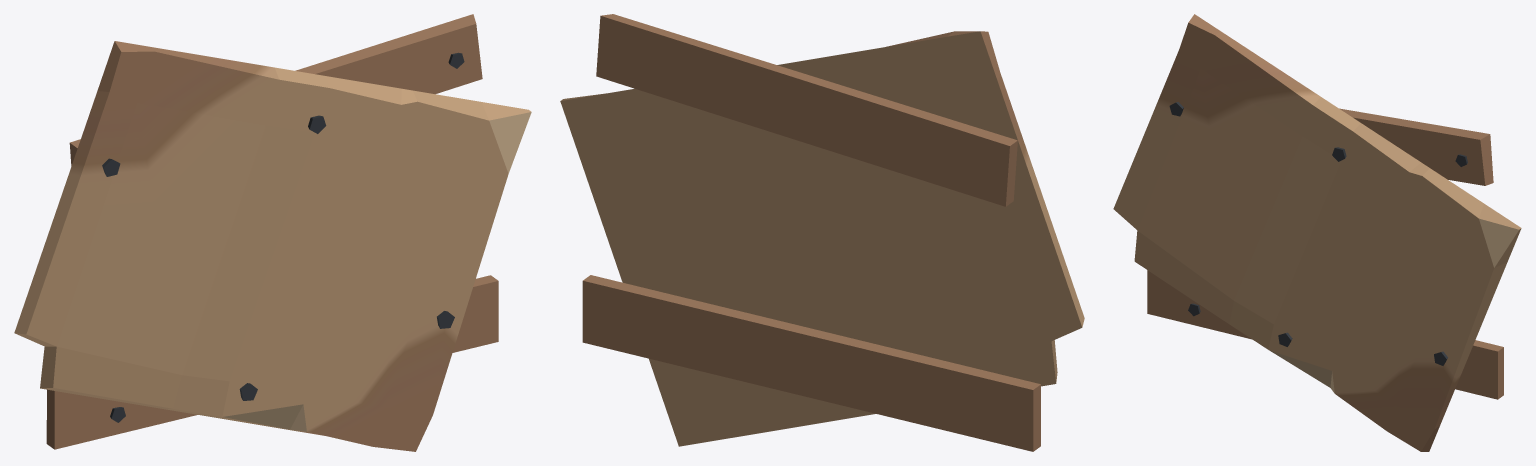
File: SM_Window_Baricade_B.fbx
The picture shows the model from 3 angles, left to right: view 1: azimuth 30°, elevation 25°; view 2: azimuth 150°, elevation 25°; view 3: azimuth 330°, elevation 25°; orthographic projection. The views are drawn at different scales.
Parts seen in each view (by area): view 1: SM_Window_Baricade_B; view 2: SM_Window_Baricade_B; view 3: SM_Window_Baricade_B.
Part boxes in pixels (bbox=[...]): SM_Window_Baricade_B: bbox=[14, 14, 531, 451]; SM_Window_Baricade_B: bbox=[560, 14, 1084, 451]; SM_Window_Baricade_B: bbox=[1113, 14, 1521, 451].
Size of the model in its own units: 175 by 157 by 10.85.
